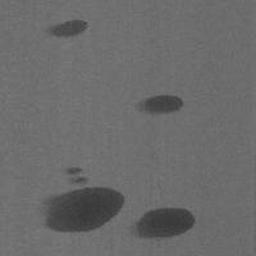Oil spot: (37, 164, 127, 234), (127, 206, 197, 243), (131, 93, 186, 116), (44, 18, 90, 40)
